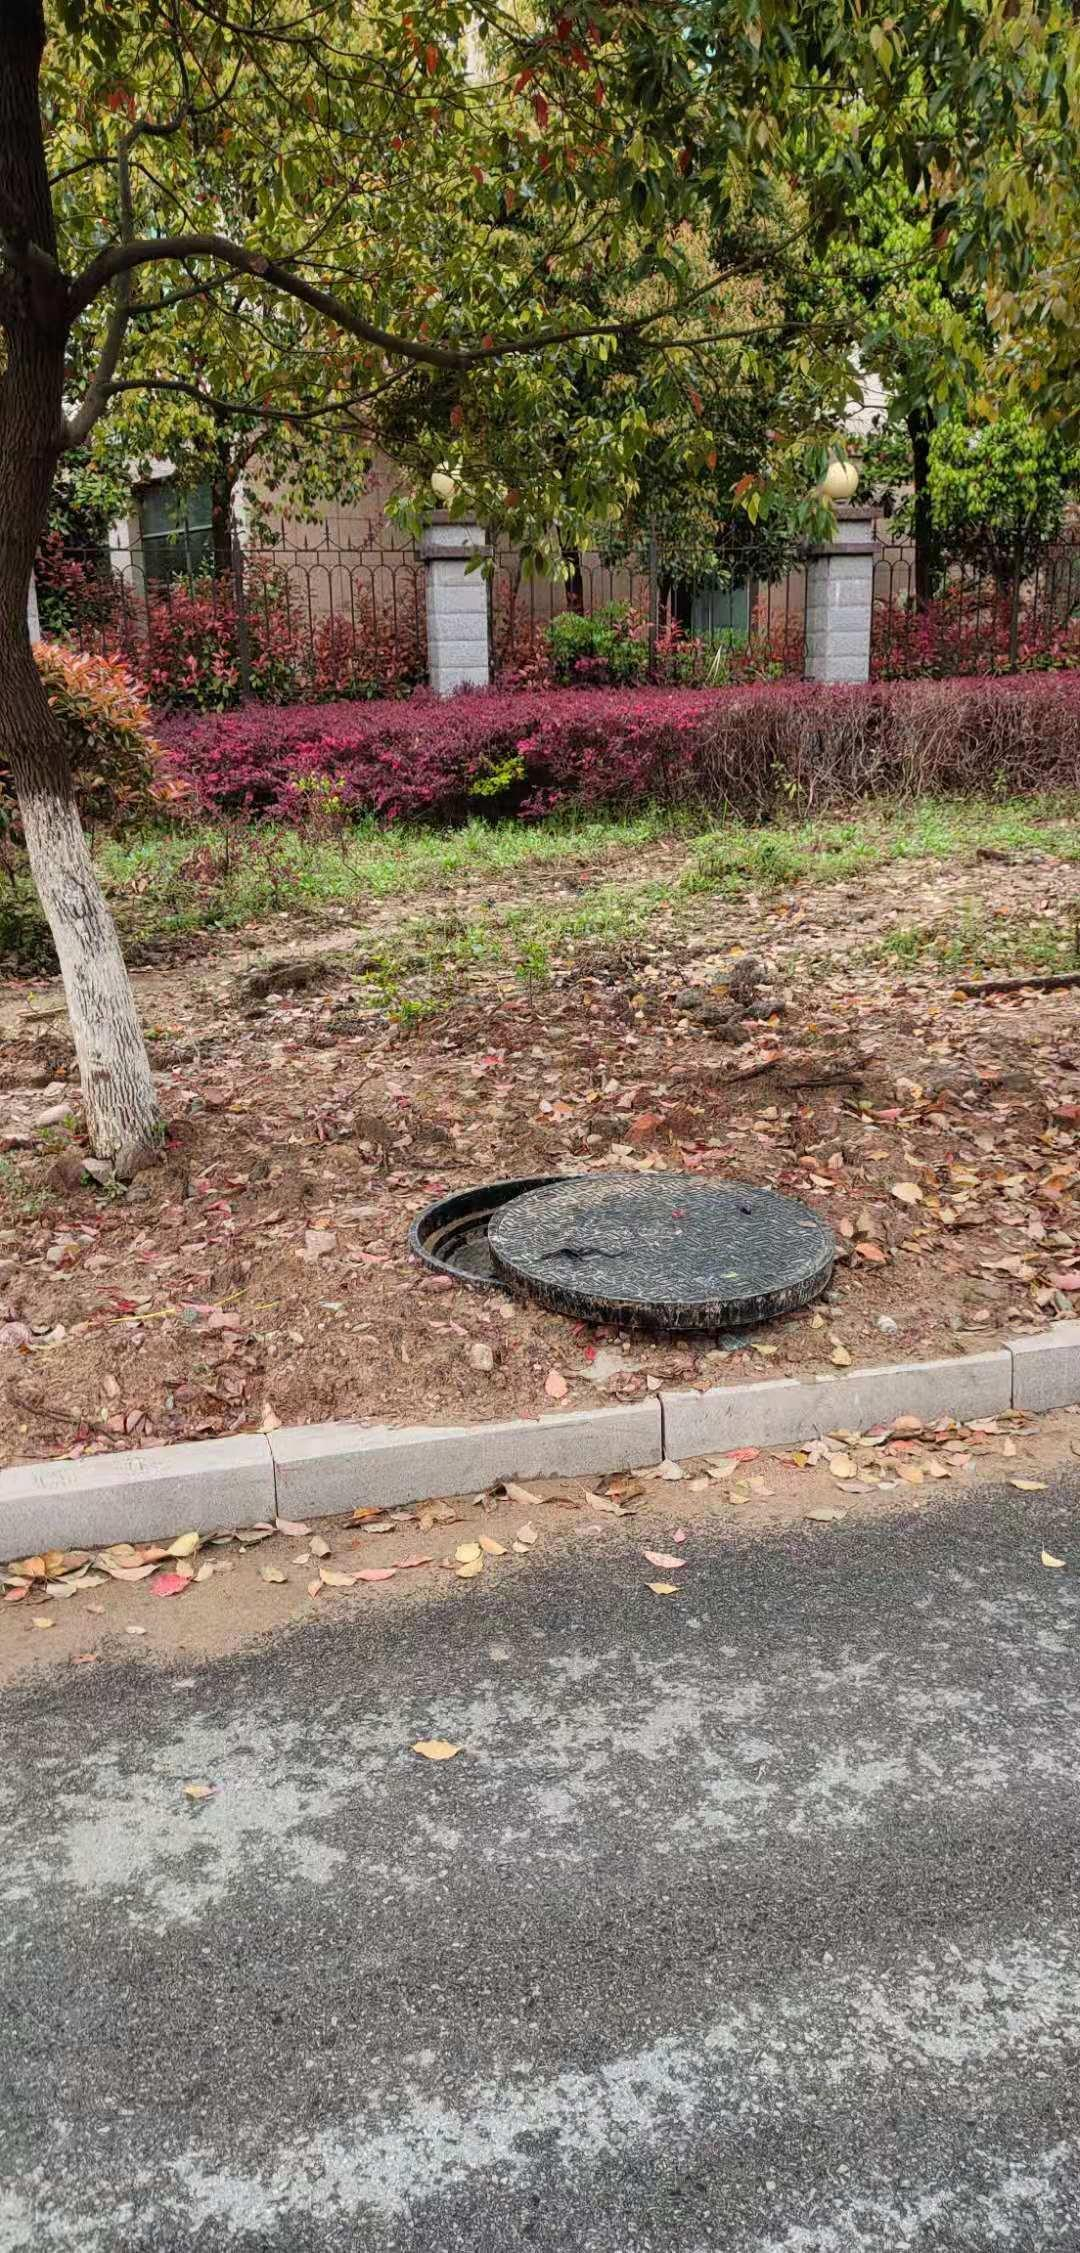wellcover: (421, 1161, 882, 1352)
